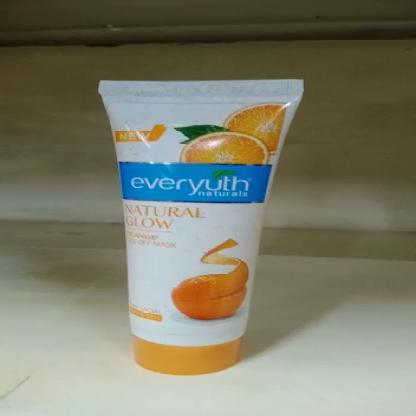EY NAT GLOW ORANGE PEEL OFF AY 90G: (100, 80, 302, 375)
